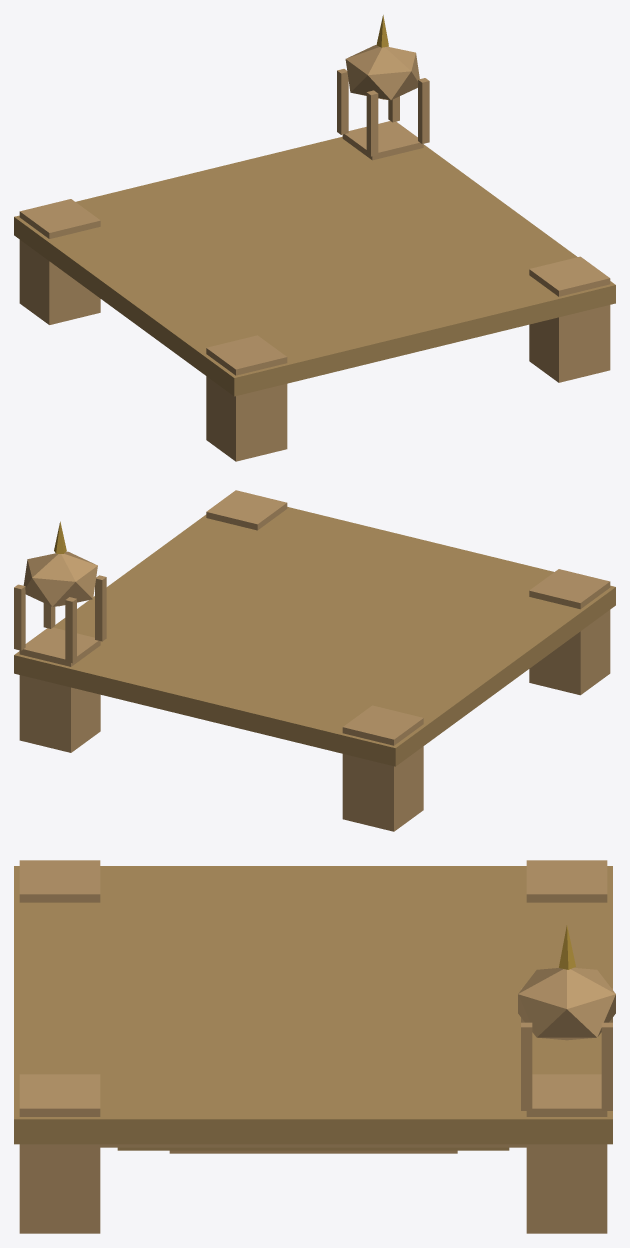
The model's file is cat_house_c.glb.
3 views of the same model, one above another, from view 1: azimuth 30°, elevation 25°; view 2: azimuth 150°, elevation 25°; view 3: azimuth 270°, elevation 25° (orthographic). The views are drawn at different scales.
Visible parts, largest first — view 1: cat_house_c; view 2: cat_house_c; view 3: cat_house_c.
Boxes of the visible parts, box(x1,y1,x2,y2) form: cat_house_c: box(14, 15, 615, 461); cat_house_c: box(14, 490, 615, 831); cat_house_c: box(14, 860, 615, 1233).
Bounding box in the file's own units: 2.62 × 1.4 × 2.61.
